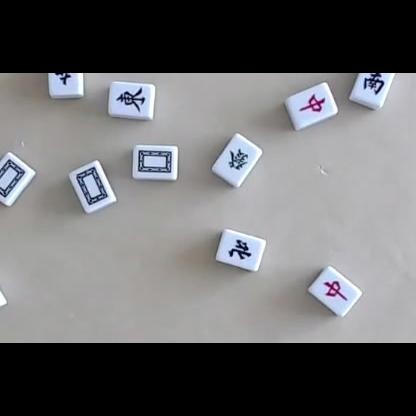1z: (115, 87, 146, 113)
2z: (362, 73, 384, 95), (54, 73, 75, 85)
4z: (229, 239, 253, 262)
5z: (76, 167, 108, 206), (0, 159, 24, 198), (138, 149, 172, 173)
6z: (228, 148, 250, 171)
7z: (323, 280, 349, 301), (299, 93, 326, 113)
